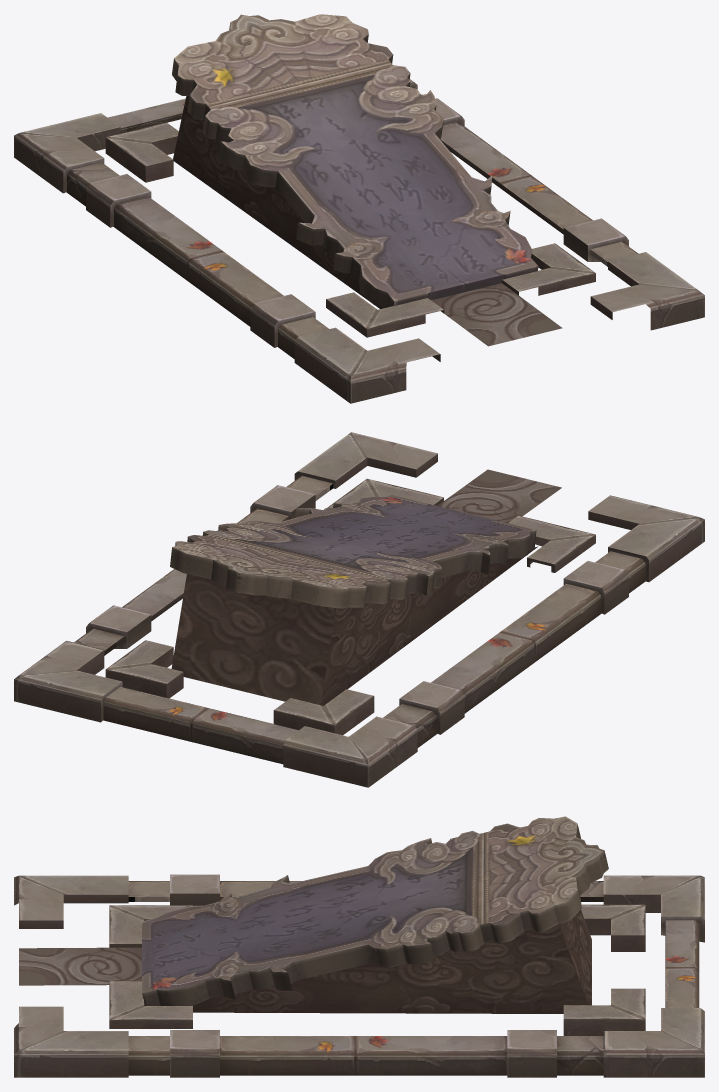
The picture shows the model from 3 angles, top to bottom: view 1: azimuth 30°, elevation 25°; view 2: azimuth 150°, elevation 25°; view 3: azimuth 270°, elevation 25°; orthographic projection. The views are drawn at different scales.
Visible parts, largest first — view 1: 52055; view 2: 52055; view 3: 52055.
Boxes of the visible parts, <box> form: 52055: <box>14,14,704,403</box>; 52055: <box>14,432,704,787</box>; 52055: <box>14,816,704,1077</box>.
Size of the model in its own units: 458 by 167 by 753.
